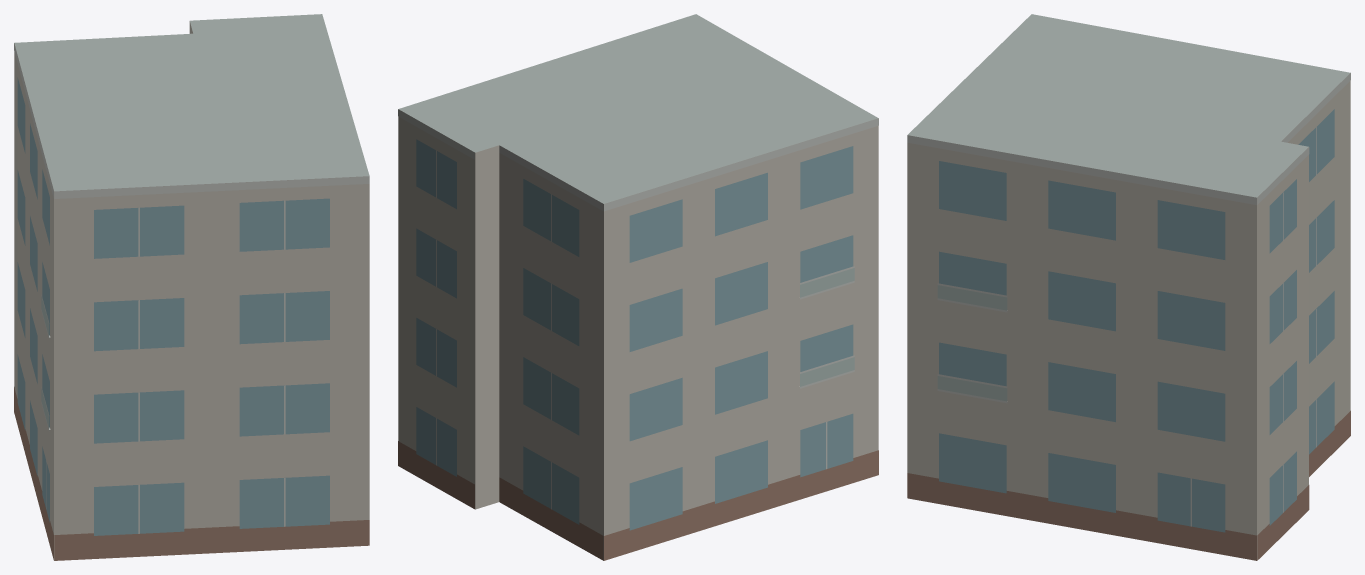
The model's file is survey-upis-32958014.glb.
3 views of the same model, side by side, from view 1: azimuth 30°, elevation 25°; view 2: azimuth 150°, elevation 25°; view 3: azimuth 270°, elevation 25° (orthographic). The views are drawn at different scales.
Parts seen in each view (by area): view 1: survey-upis-32958014.tmp; view 2: survey-upis-32958014.tmp; view 3: survey-upis-32958014.tmp.
Part boxes in pixels (box(x1,y1,x2,y2)): survey-upis-32958014.tmp: box(14, 14, 369, 560); survey-upis-32958014.tmp: box(398, 14, 878, 560); survey-upis-32958014.tmp: box(907, 14, 1350, 560).
Bounding box in the file's own units: 12.7 × 11.7 × 12.95.
